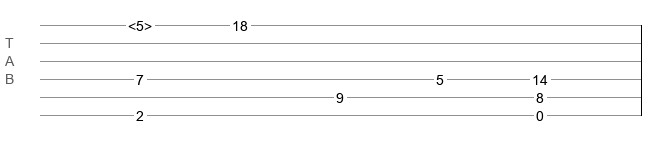0: (536, 108, 544, 118)
14: (532, 72, 548, 82)
18: (232, 18, 248, 28)
2: (136, 108, 144, 118)
5: (436, 72, 444, 82)
7: (136, 72, 144, 82)
8: (536, 90, 544, 100)
9: (336, 90, 344, 100)
harmonic: (128, 18, 152, 28)
